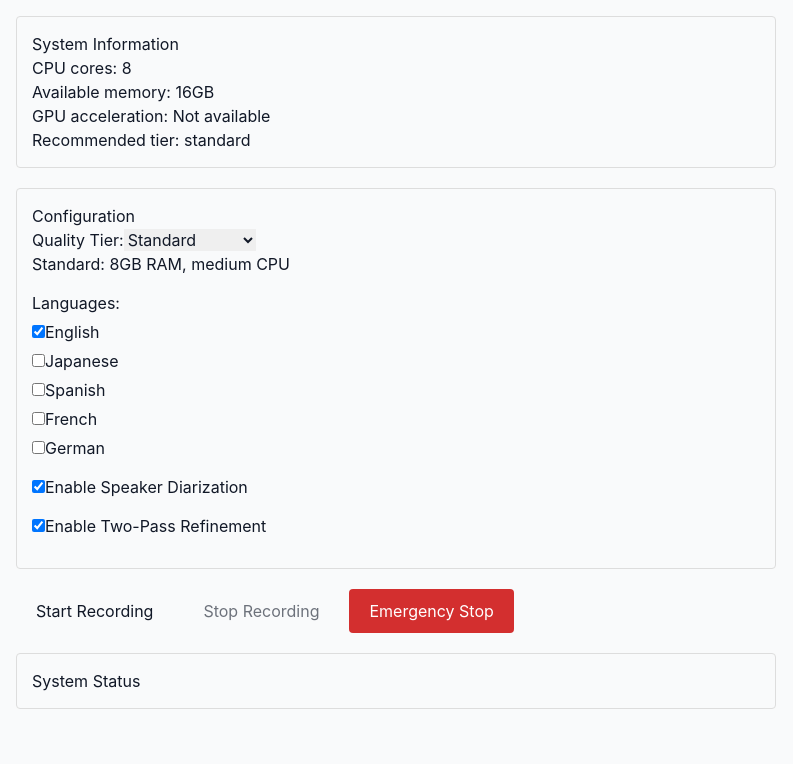
Test: TranscriptionController Component › Transcription Session Management › should start transcription session correctly
The image size is (793, 764).
Note: Click start recording
Click the button with test id "start-recording-button" at (95, 611), box x1=16 y1=589 x2=173 y2=633
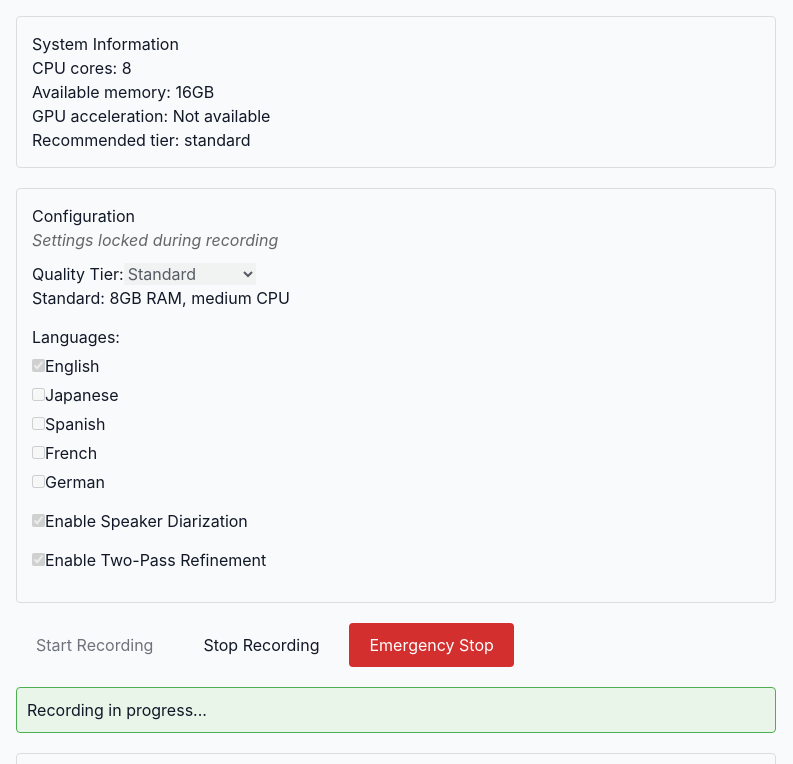
Check: the text "Recording in progress..." is shown, box x1=16 y1=687 x2=776 y2=733
Check: the button with test id "start-recording-button" is disabled, box x1=16 y1=623 x2=173 y2=667
Check: the button with test id "stop-recording-button" is enabled, box x1=183 y1=623 x2=340 y2=667
